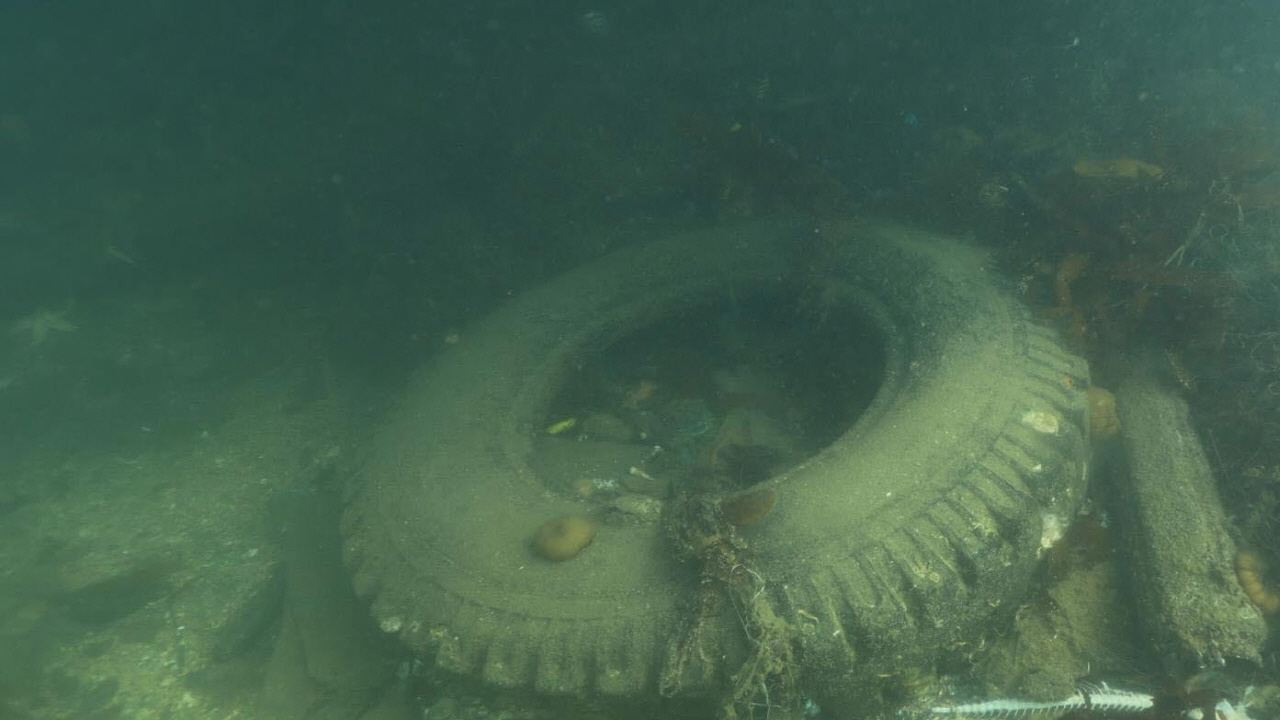eel fish trap: (1118, 377, 1271, 697)
tire: (339, 218, 1091, 720)
